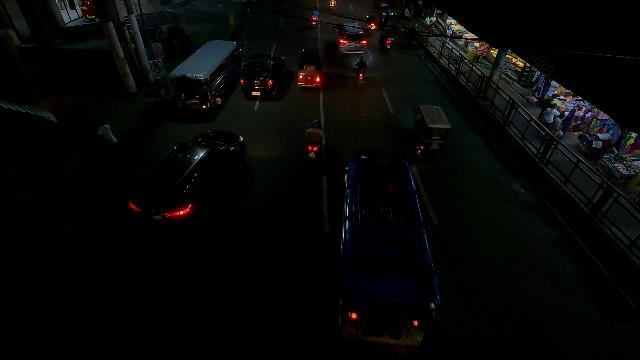car: (124, 130, 249, 222), (239, 53, 287, 98), (332, 22, 368, 56)
jeepney: (340, 149, 437, 349), (167, 39, 246, 115)
motorcycle: (306, 119, 323, 164), (353, 54, 369, 89), (380, 27, 394, 50), (406, 24, 418, 47), (365, 12, 376, 33), (310, 7, 320, 28)
